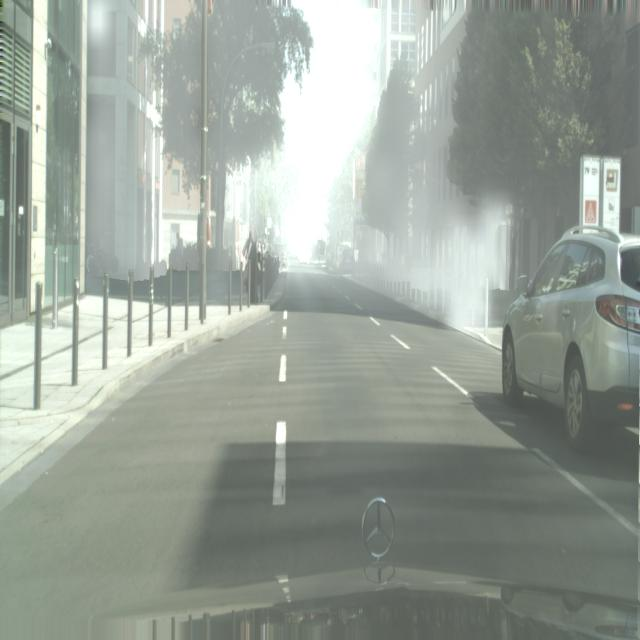person: (242, 220, 260, 305)
truck: (501, 225, 640, 450), (339, 246, 356, 273), (299, 248, 311, 264)
